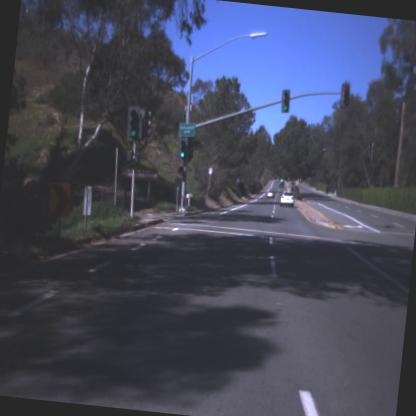trafficlight: (124, 101, 141, 142), (176, 134, 190, 162), (279, 86, 289, 114)
